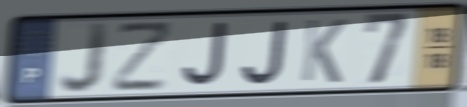7: (362, 10, 411, 88)
J: (56, 19, 112, 97), (179, 19, 230, 89), (239, 18, 290, 88)
K: (298, 17, 349, 86)
Z: (111, 18, 177, 95)
